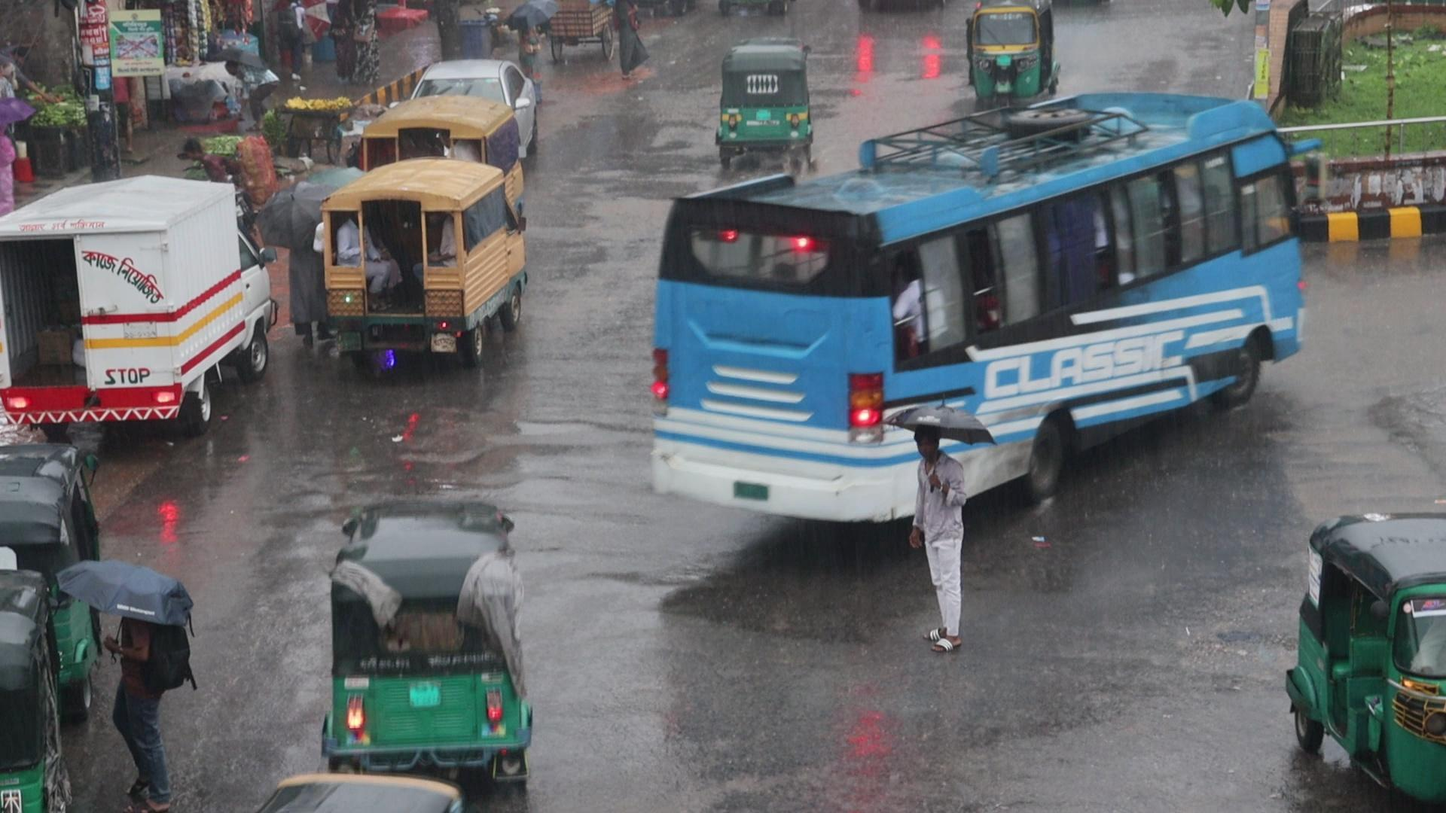Bus: (644, 87, 1316, 530)
Truck: (309, 155, 522, 384)
